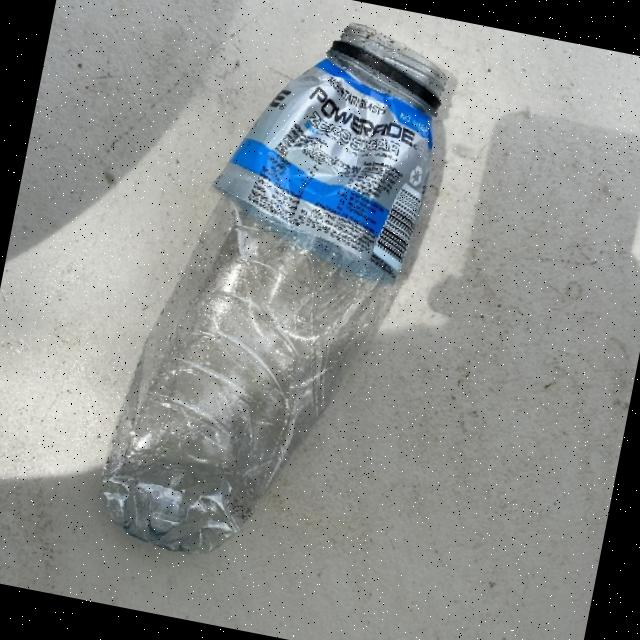plastic: (89, 0, 457, 586)
